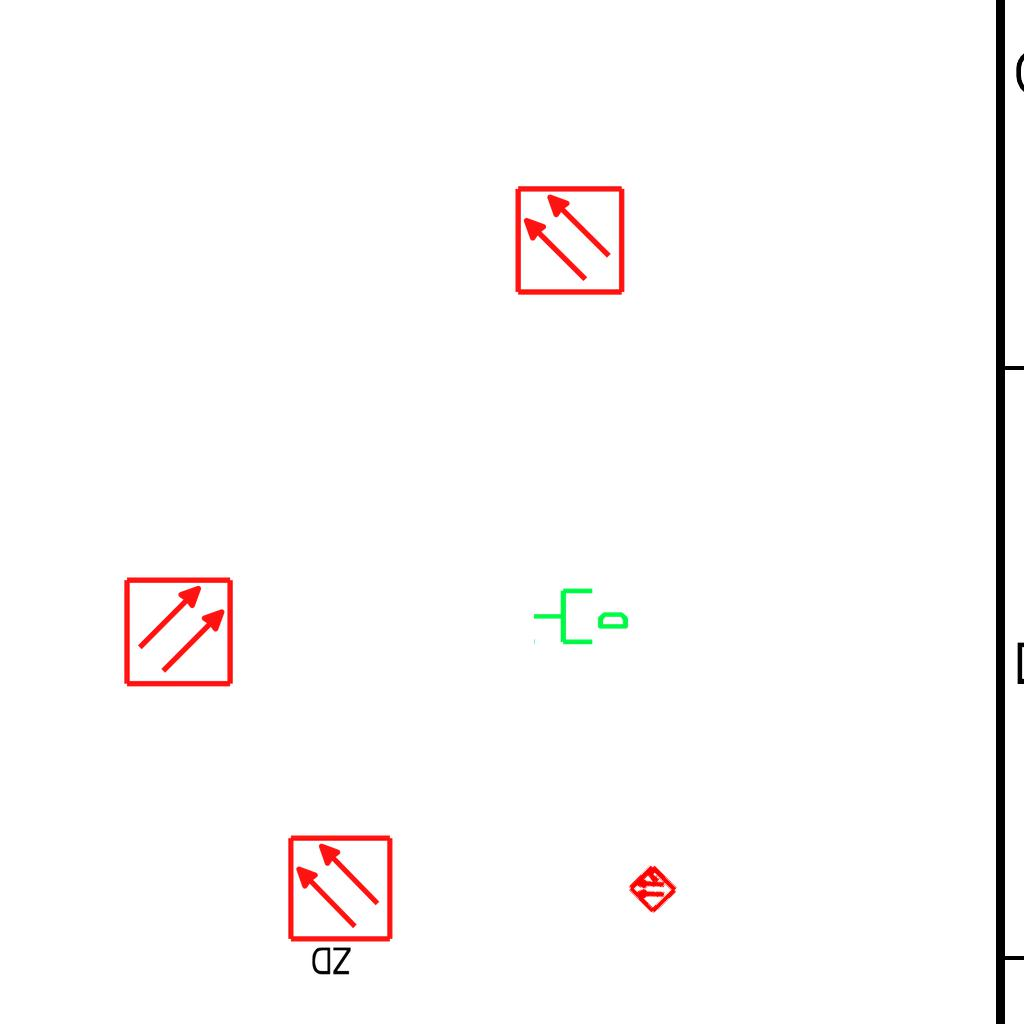Datenanschluss_einfach: (531, 580, 631, 649)
OT_Multisensormelder_(Kombination_RMO_WMD): (612, 848, 692, 928)
RMO_Rauchmelder_optischer: (513, 184, 626, 297), (122, 575, 235, 688)
ZD_Melder_in_Zwischendecke_mit_Revisionsoeffnung_mind_40_x_40_cm: (285, 833, 399, 982)
